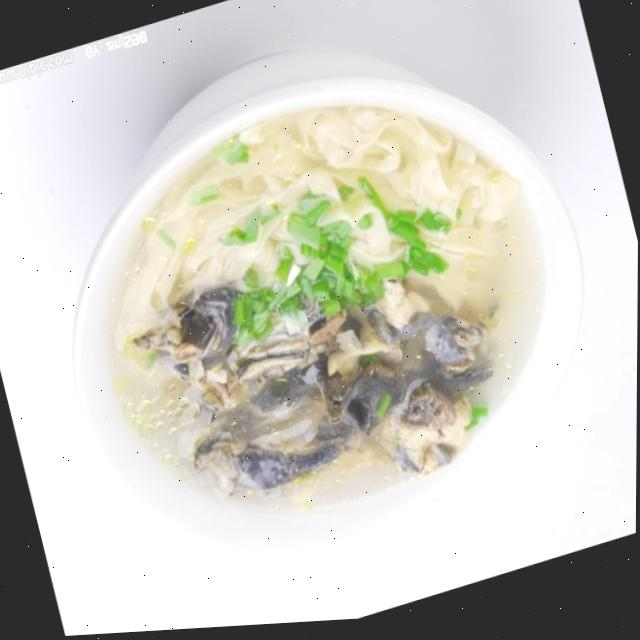面条主食: (72, 75, 573, 570)
